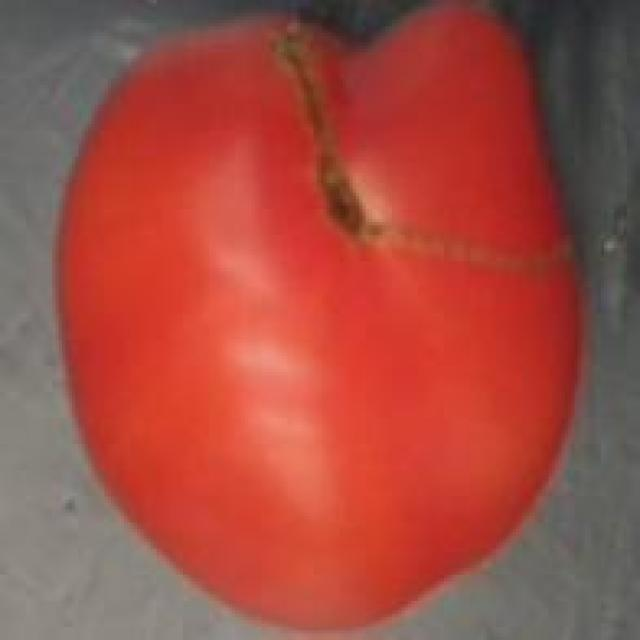overripe tomato: (42, 3, 594, 640)
